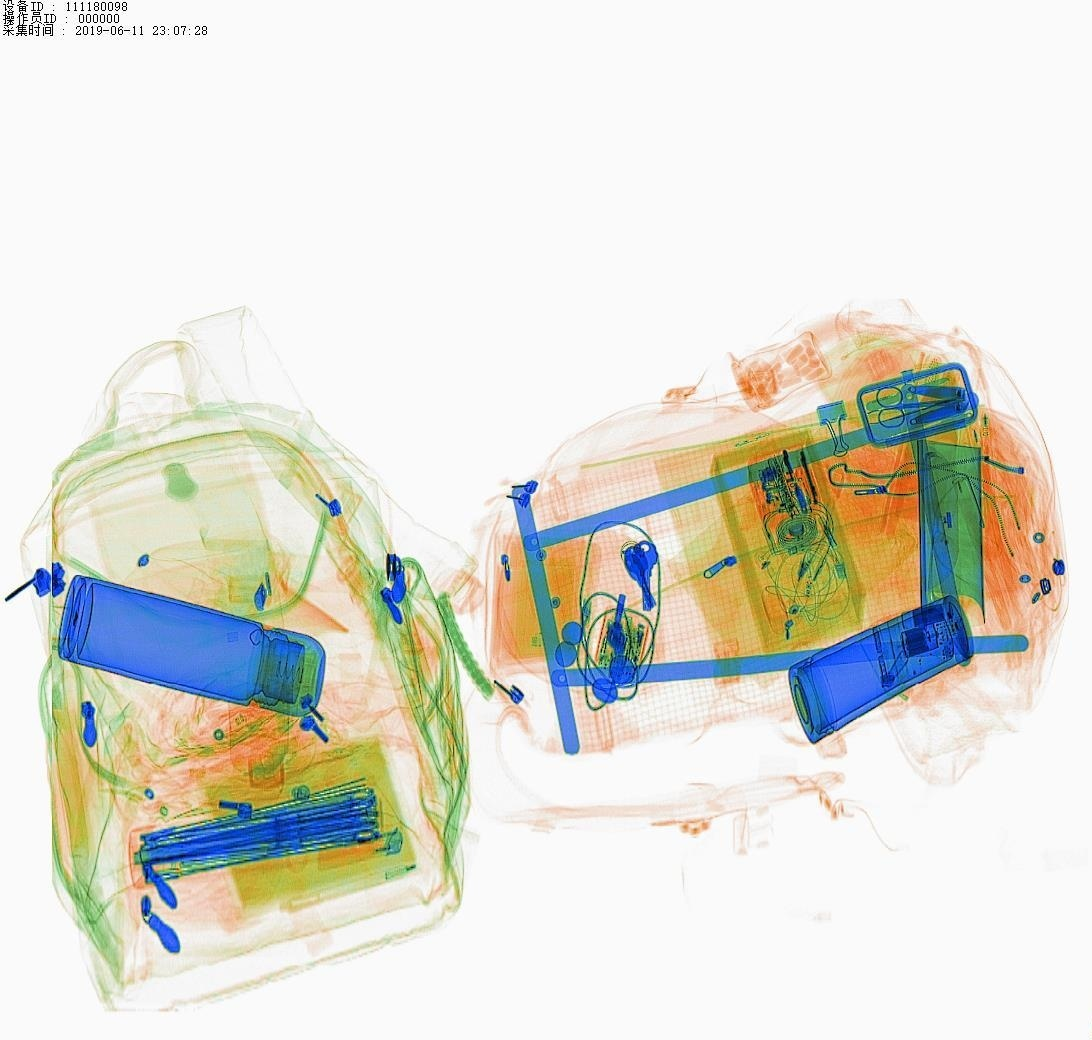NonmetallicFire: (301, 820, 424, 889)
